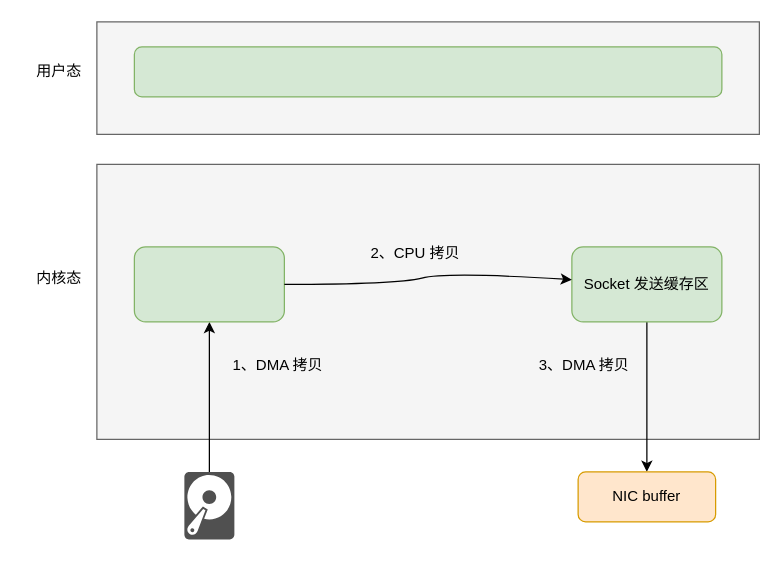
This 781x561 diagram has some shape labels left out. The box of each missing label's shape, as (x1, y1, x2, y2) in pixels:
Page Cache: (133, 246, 284, 322)
用户内存: (133, 46, 722, 97)
